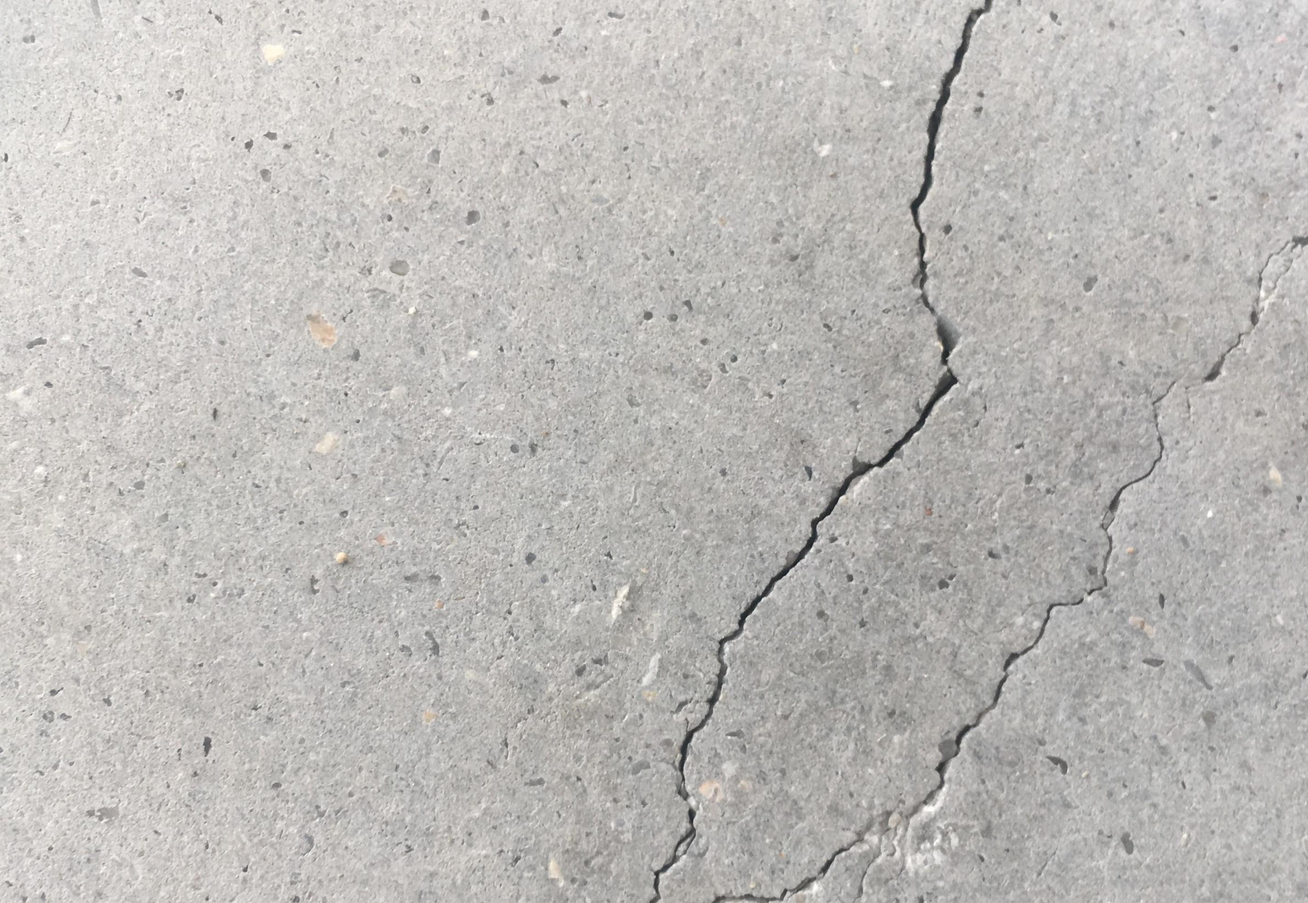Diagonal Crack: (647, 1, 1304, 899)
